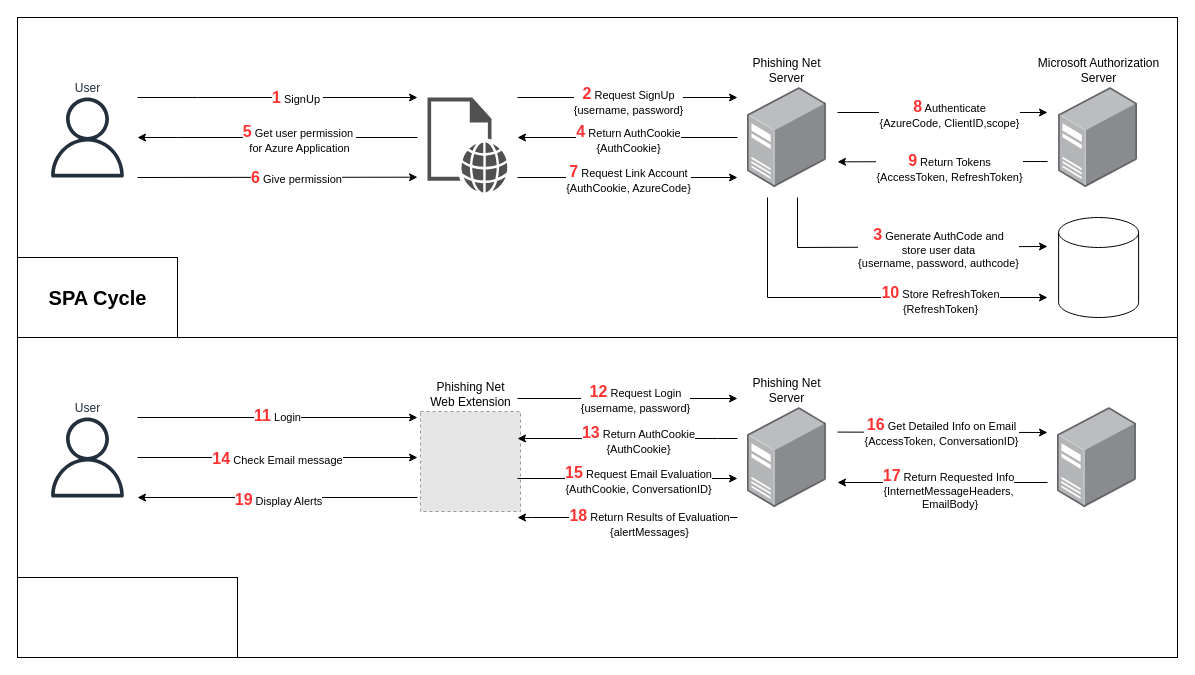
The diagram is 1195 pixels wide and 675 high, and some of its shapes have lost their labels. Grey dashed boxes stand in for pictures. The shapes that lost their labels are listed below. From the top down, each one's centre as x and y in pixels, then its label:
At (x=467, y=144): "Phishing Net SPA".
At (x=1098, y=267): "Phishing Net DB".
At (x=1096, y=457): "Graph API".
At (x=127, y=617): "Extension Cycle".
